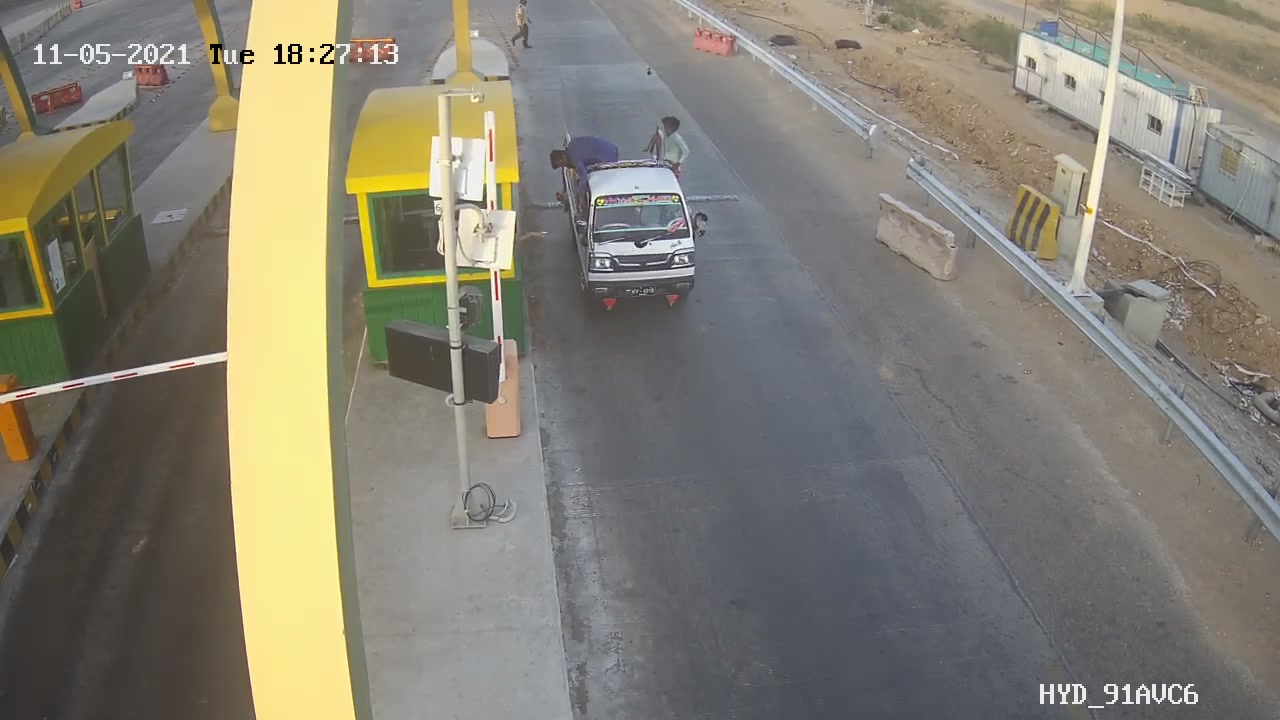F1: (553, 129, 716, 318)
